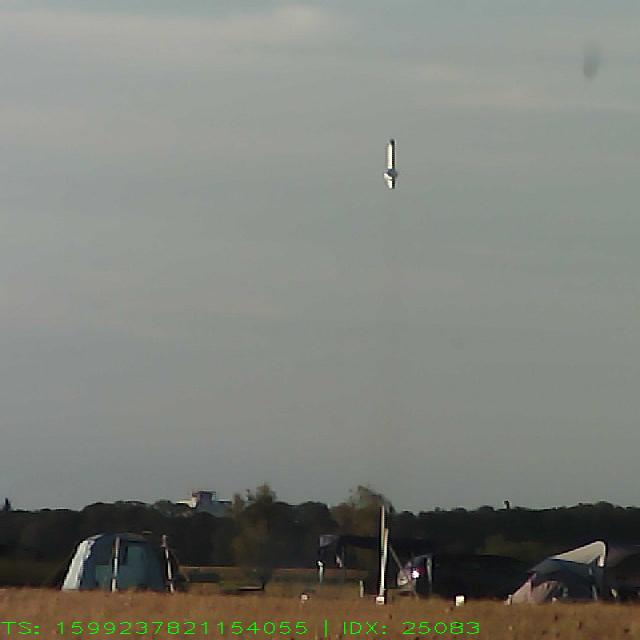Rocket: (383, 138, 401, 190)
